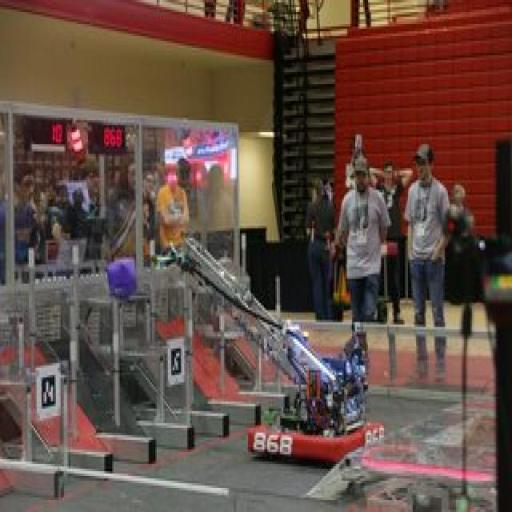robot: (150, 231, 402, 481)
